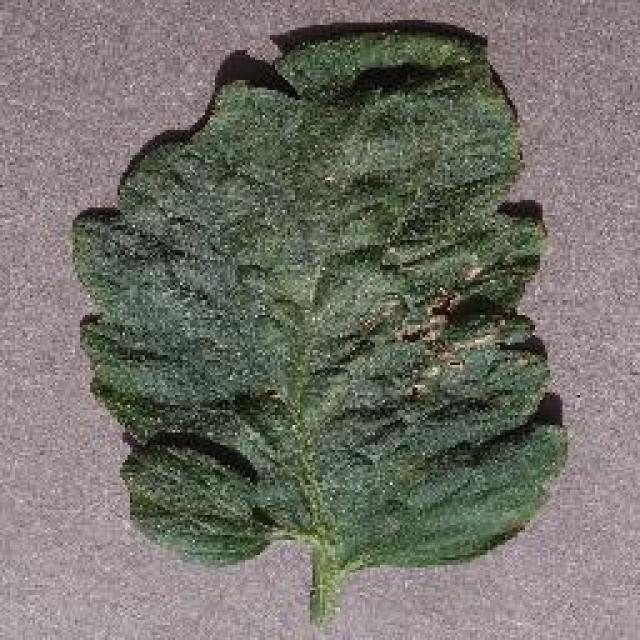Tom_Target_Spot: (358, 234, 516, 431)
